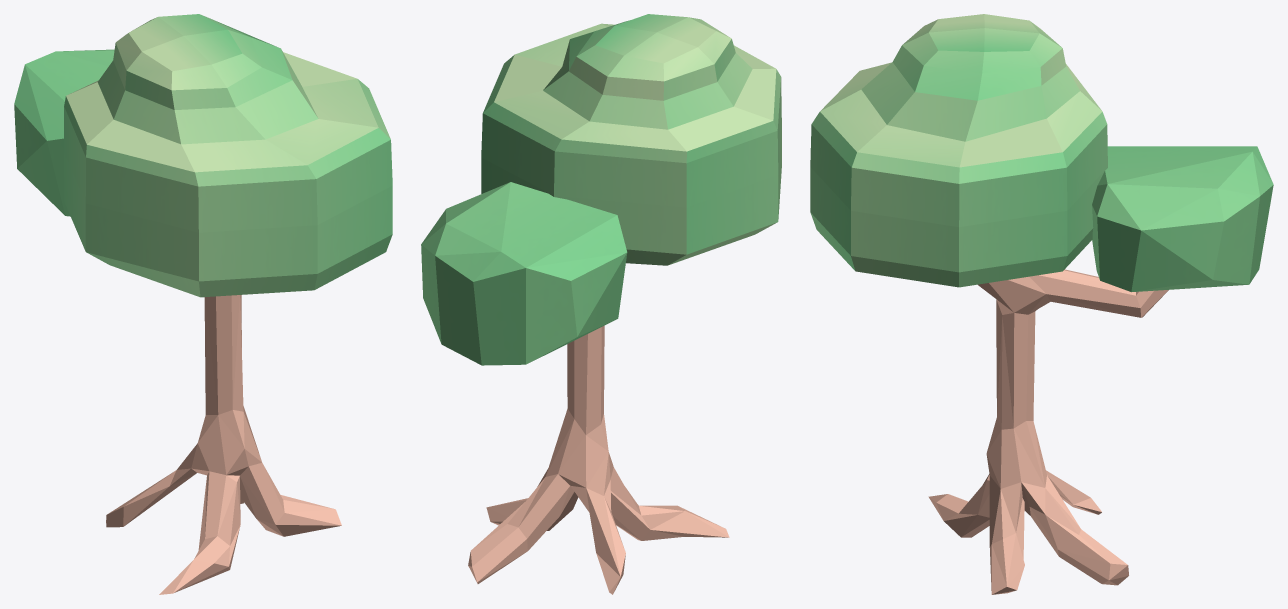
File: Tree_color.fbx
The picture shows the model from 3 angles, left to right: view 1: azimuth 30°, elevation 25°; view 2: azimuth 150°, elevation 25°; view 3: azimuth 270°, elevation 25°; orthographic projection. The views are drawn at different scales.
Parts seen in each view (by area): view 1: tronc; view 2: tronc; view 3: tronc.
Boxes of the visible parts, bbox=[...] form: tronc: bbox=[14, 14, 392, 594]; tronc: bbox=[421, 14, 781, 594]; tronc: bbox=[810, 14, 1273, 594].
Bounding box in the file's own units: 400 × 732 × 607.
